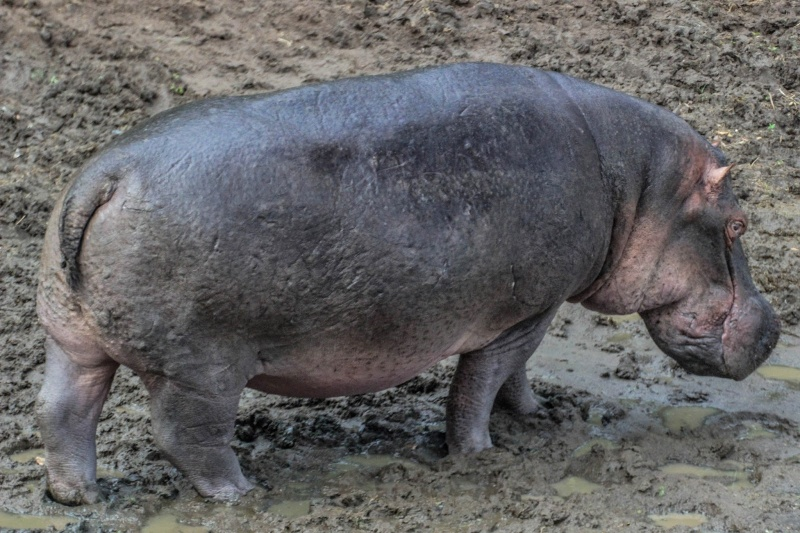hipopotamo: (28, 52, 783, 501)
